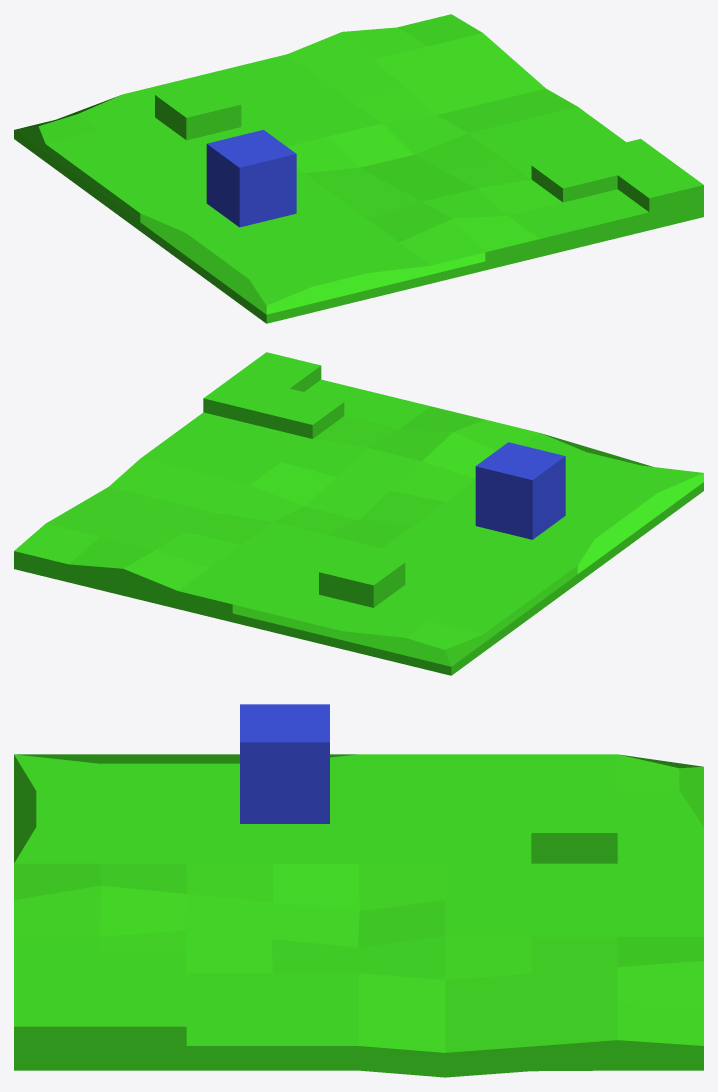
3 renders of one model, top to bottom at view 1: azimuth 30°, elevation 25°; view 2: azimuth 150°, elevation 25°; view 3: azimuth 270°, elevation 25°, orthographic. The views are drawn at different scales.
Parts seen in each view (by area): view 1: Ground, Cube; view 2: Ground, Cube; view 3: Ground, Cube.
Boxes of the visible parts, left/top/right/bottom form: Ground: left=14, top=14, right=703, bottom=323; Cube: left=206, top=130, right=296, bottom=227; Ground: left=14, top=352, right=703, bottom=675; Cube: left=475, top=442, right=565, bottom=539; Ground: left=14, top=754, right=703, bottom=1077; Cube: left=240, top=704, right=329, bottom=823.
Bounding box in the file's own units: 11.63 × 2.21 × 11.63.
